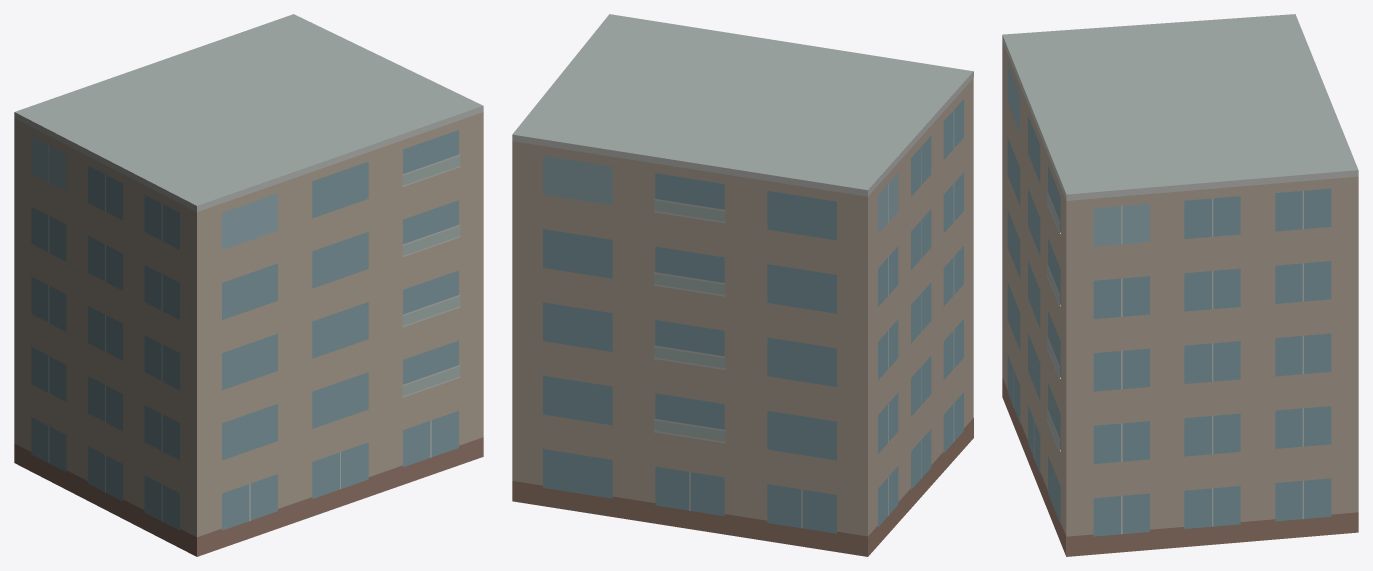
File: survey-upis-32996424.glb
3 renders of one model, left to right at view 1: azimuth 30°, elevation 25°; view 2: azimuth 150°, elevation 25°; view 3: azimuth 270°, elevation 25°, orthographic. The views are drawn at different scales.
Visible parts, largest first — view 1: survey-upis-32996424.tmp; view 2: survey-upis-32996424.tmp; view 3: survey-upis-32996424.tmp.
Boxes of the visible parts, left/top/right/bottom form: survey-upis-32996424.tmp: left=14, top=14, right=483, bottom=556; survey-upis-32996424.tmp: left=512, top=14, right=973, bottom=556; survey-upis-32996424.tmp: left=1002, top=14, right=1358, bottom=556.
Size of the model in its own units: 14.76 by 13.8 by 12.31.
